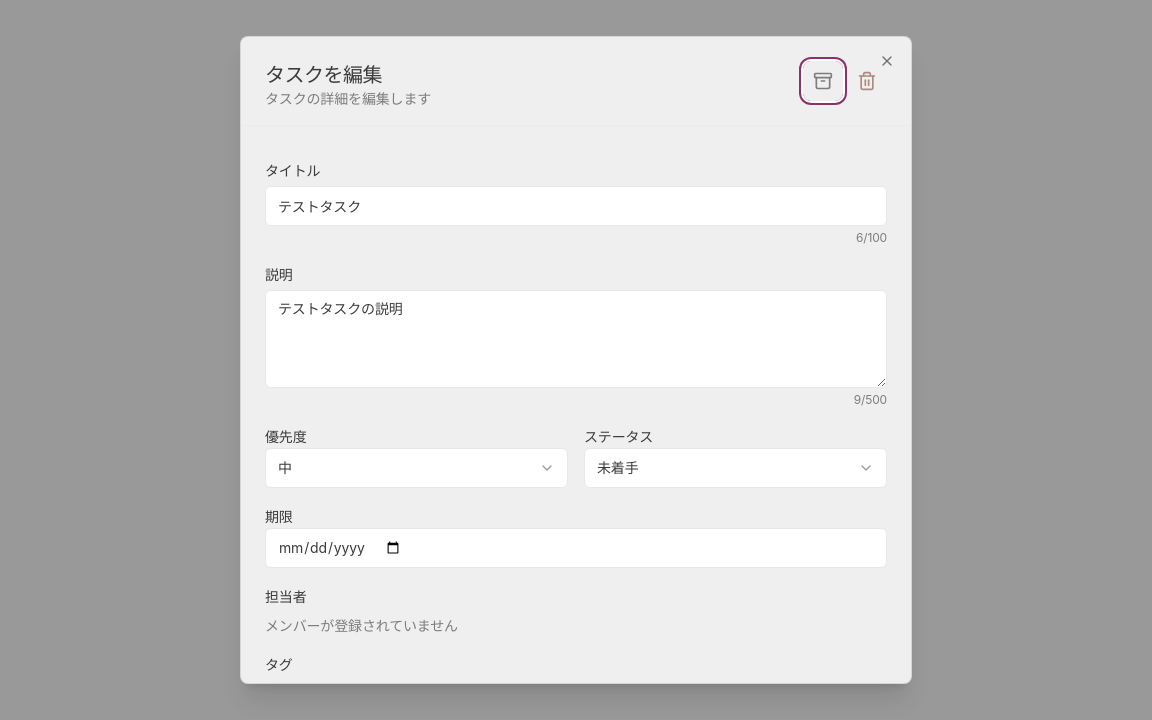
it: EditTaskDialog › タスクの削除 › 削除ボタンで確認ダイアログが表示される
削除ボタンを探す（data-testidで取得）
Click the button with test id "delete-task-button".
click(867, 81)  # box [847,61,887,101]
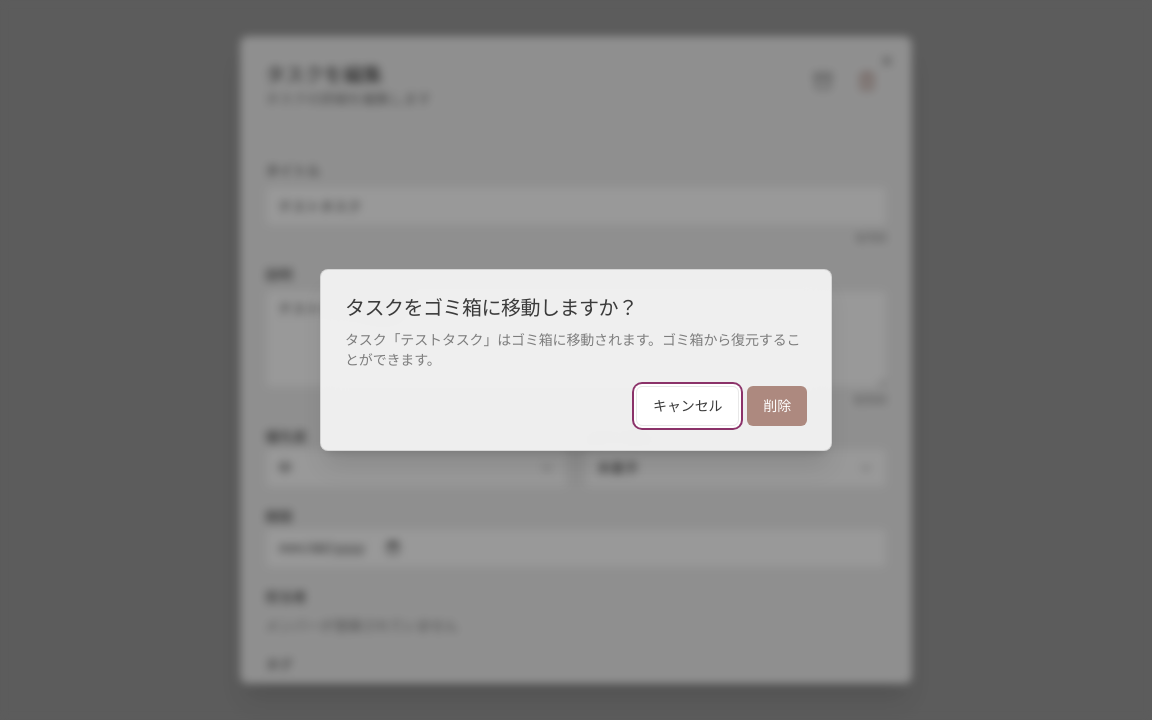
Check: the heading "タスクをゴミ箱に移動しますか？" is shown, box [345,296,638,320]
